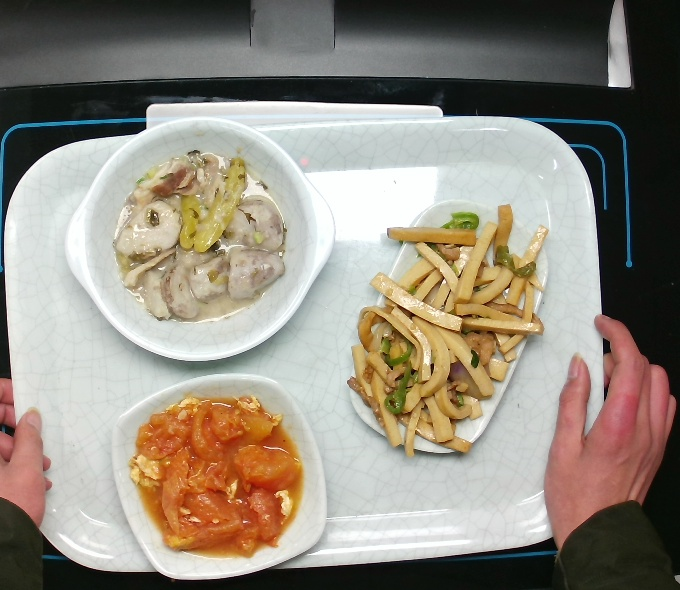wcq-FanQieChaoDan: (124, 389, 307, 563)
wcq-QianYeDouFu: (342, 194, 553, 459)
wcq-YangYu: (106, 146, 292, 328)
